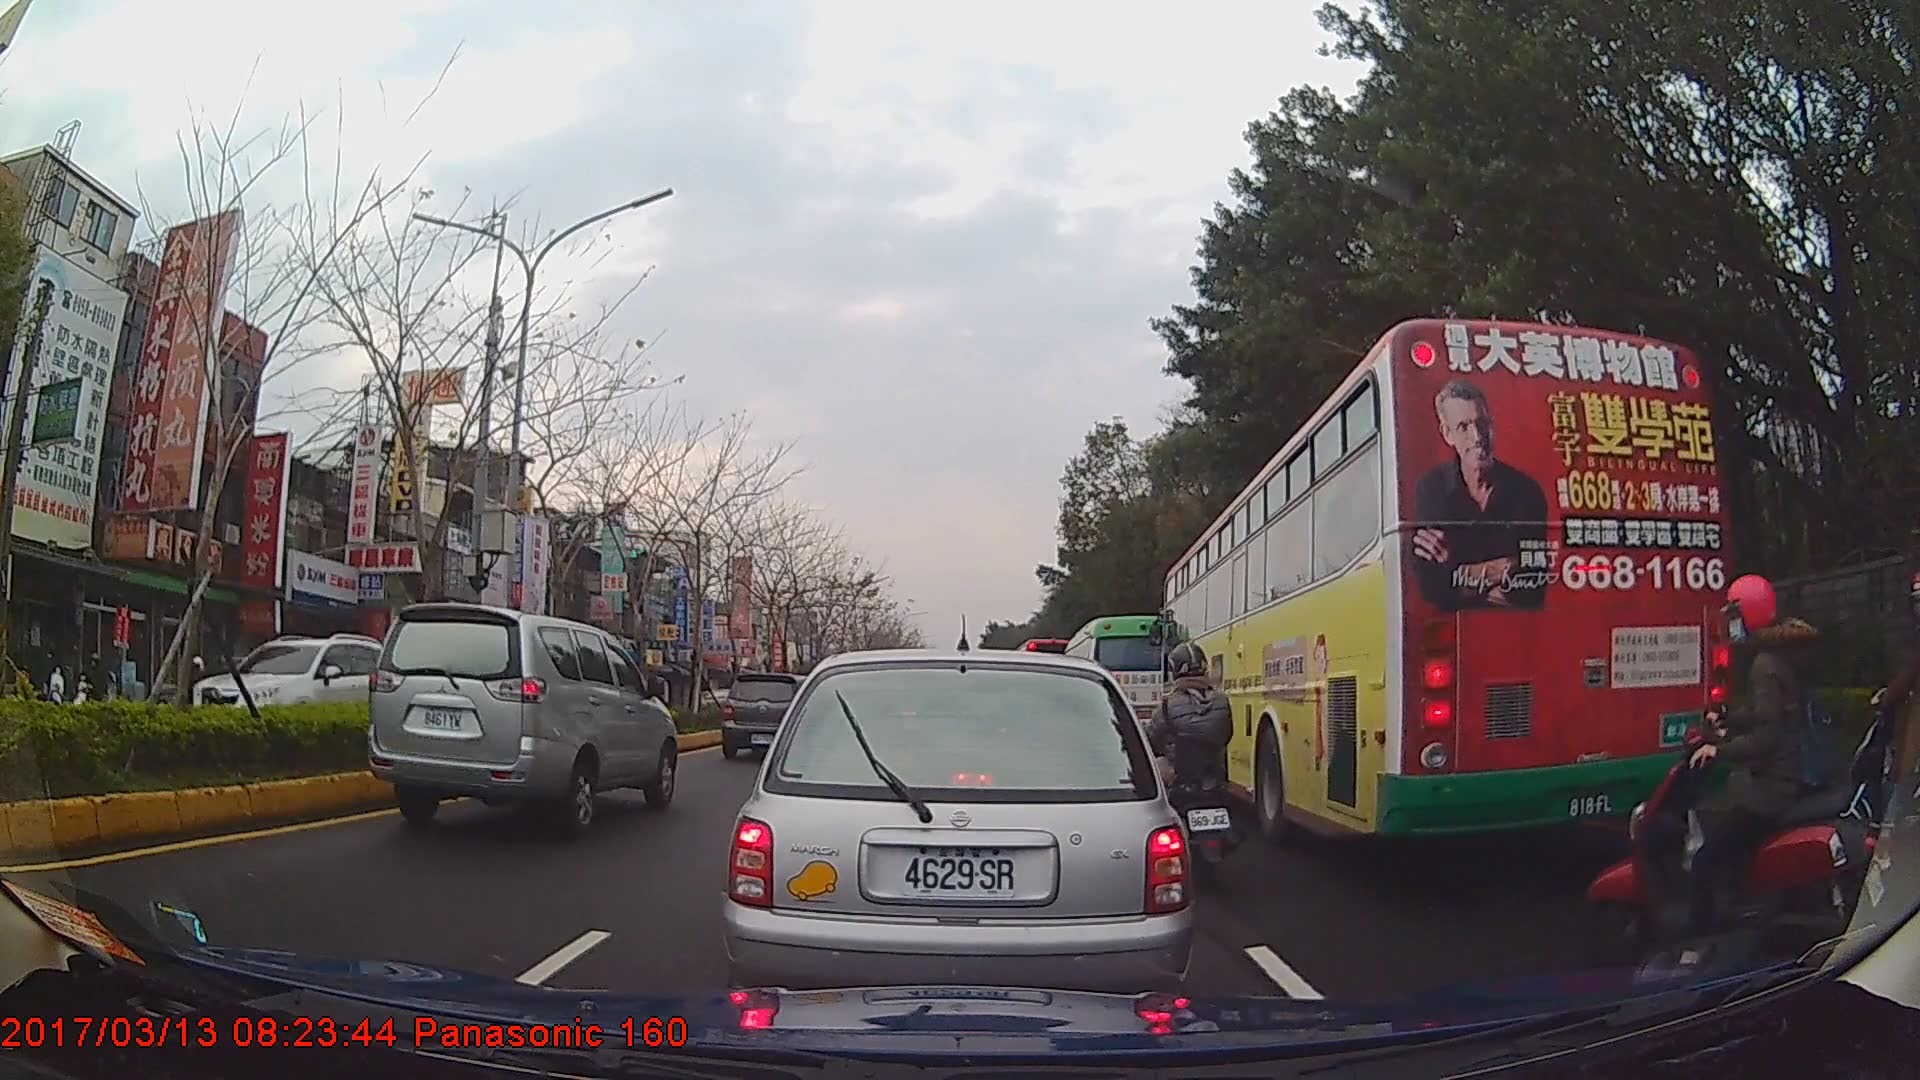rider: (1593, 571, 1888, 980), (1834, 571, 1920, 892), (1143, 641, 1236, 887), (73, 654, 108, 705)
vehicle: (1160, 314, 1737, 840), (725, 645, 1190, 1025), (364, 602, 677, 834), (186, 632, 407, 748), (1062, 613, 1188, 768), (148, 650, 348, 738), (721, 672, 813, 760)
